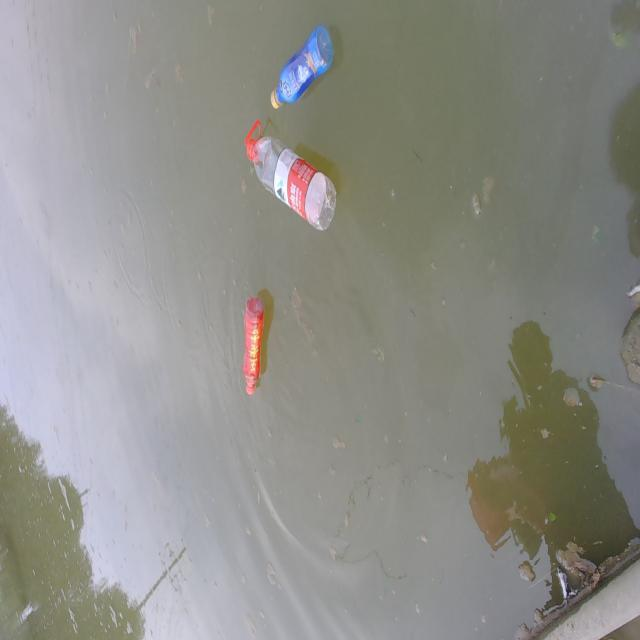bottle: (233, 116, 345, 243), (259, 20, 350, 116), (236, 291, 276, 405)
